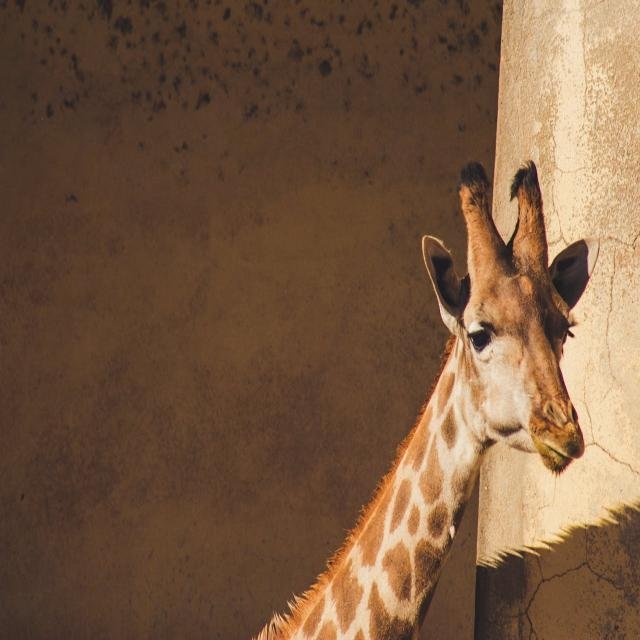Giraffe: (254, 157, 581, 640)
